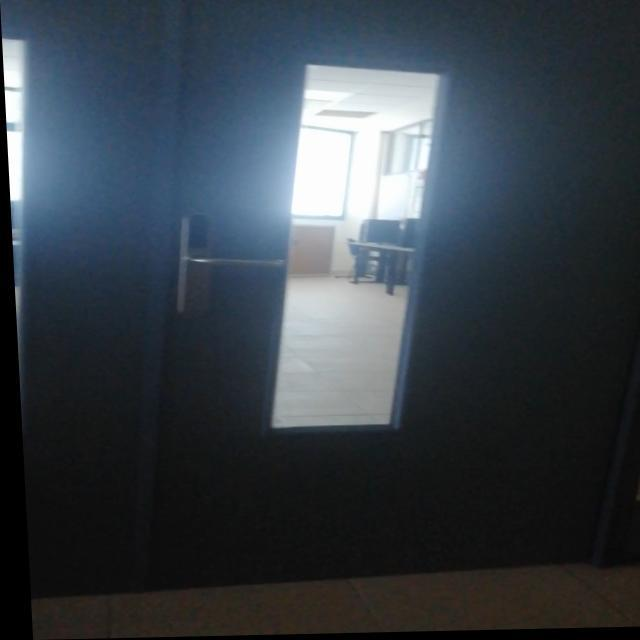door_handle: (181, 254, 285, 272)
